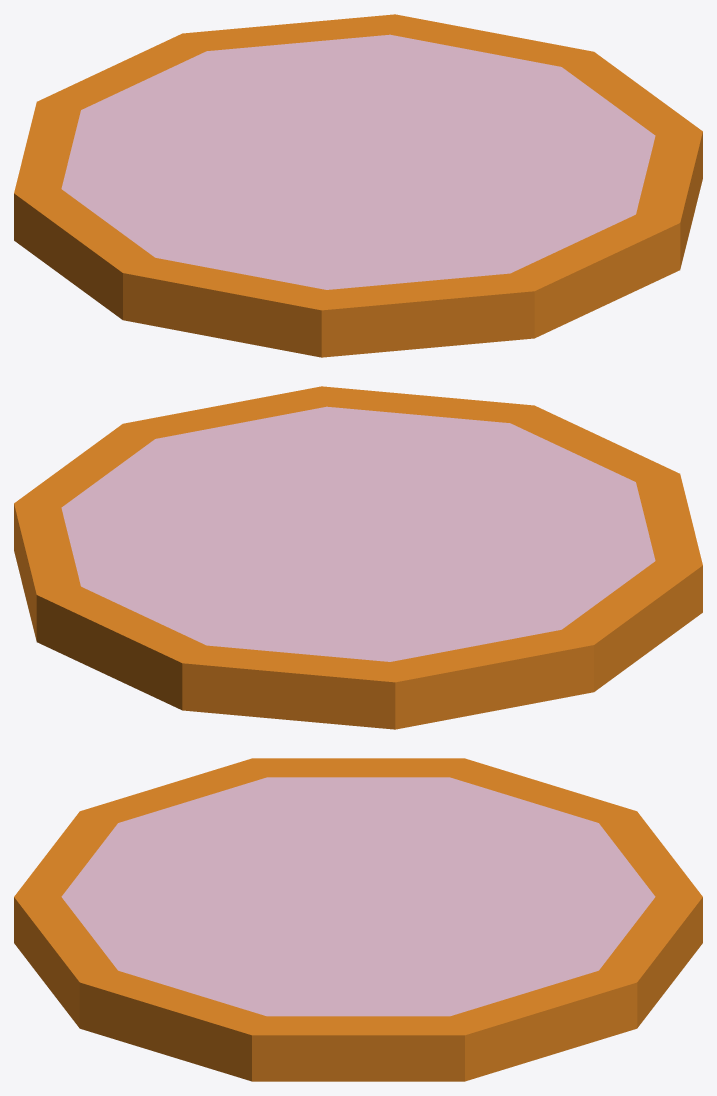
Rendered from pad.fbx.
3 views of the same model, one above another, from view 1: azimuth 30°, elevation 25°; view 2: azimuth 150°, elevation 25°; view 3: azimuth 270°, elevation 25° (orthographic). The views are drawn at different scales.
Visible parts, largest first — view 1: Cylinder; view 2: Cylinder; view 3: Cylinder.
Part boxes in pixels (x1,y1,x2,y2): Cylinder: (14,14,702,357); Cylinder: (14,386,702,729); Cylinder: (14,758,702,1081).
Bounding box in the file's own units: 675 × 52.51 × 710.
